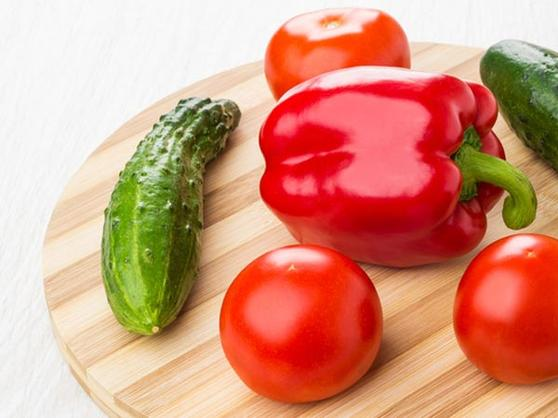cucumber: (99, 91, 239, 338)
pepper: (253, 65, 538, 266)
tomato: (222, 240, 392, 404)
